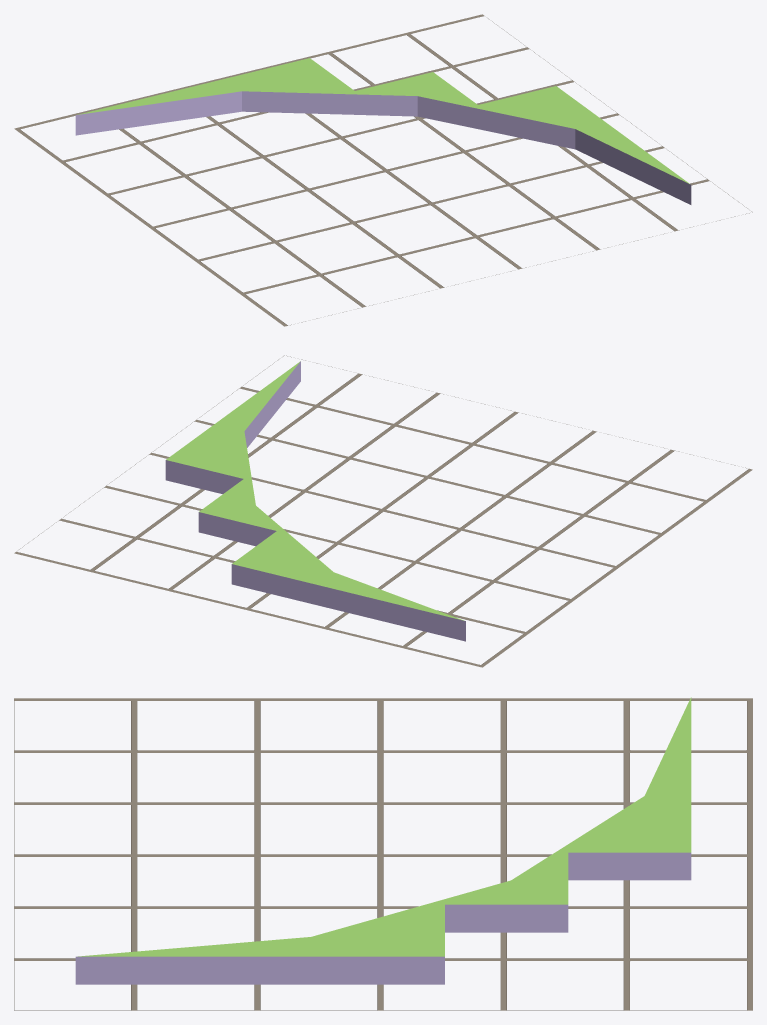
Rendered from Tiered_Grass_Curve_Inner_5x5.glb.
3 renders of one model, top to bottom at view 1: azimuth 30°, elevation 25°; view 2: azimuth 150°, elevation 25°; view 3: azimuth 270°, elevation 25°, orthographic. The views are drawn at different scales.
Parts seen in each view (by area): view 1: Tiered_Grass_Curve_Inner_5x5, Floor; view 2: Tiered_Grass_Curve_Inner_5x5, Floor; view 3: Tiered_Grass_Curve_Inner_5x5, Floor.
Boxes of the visible parts, x1,y1,x2,y2 form: Tiered_Grass_Curve_Inner_5x5: [75, 58, 691, 204]; Floor: [14, 14, 752, 326]; Tiered_Grass_Curve_Inner_5x5: [165, 361, 465, 641]; Floor: [14, 355, 752, 667]; Tiered_Grass_Curve_Inner_5x5: [75, 697, 691, 984]; Floor: [14, 698, 752, 1010].
Bounding box in the file's own units: 600 × 25 × 600.
Materials: 4 (1 with a texture image).
